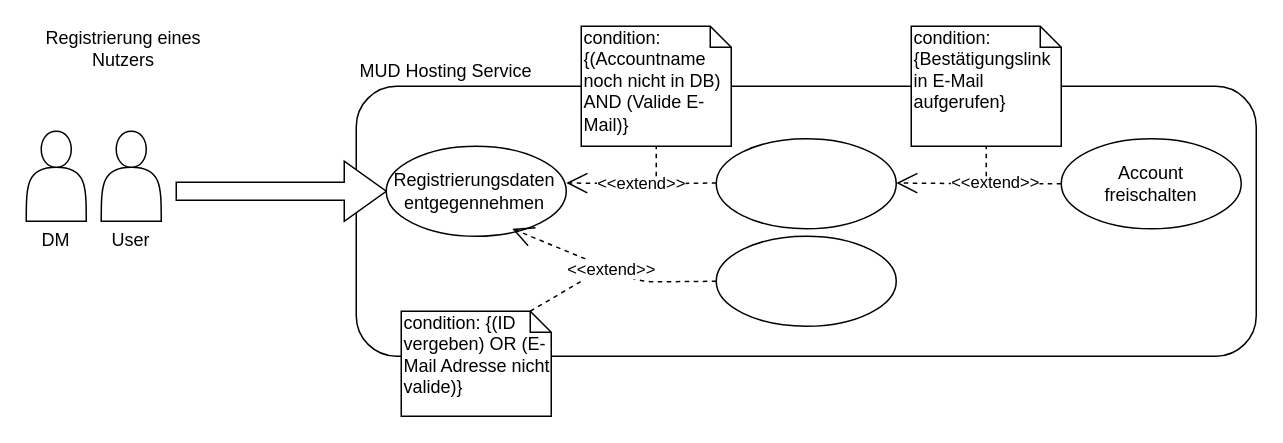
Image size: 1283x443. Some labels were removed from this diagram. The shapes that lost their labels are listed below. From the top down, each one's centre as x and y in pixels, then its label:
At [805,183]: "Bestätigungsmail senden".
At [805,280]: "Registrierungsfehler mitteilen".
